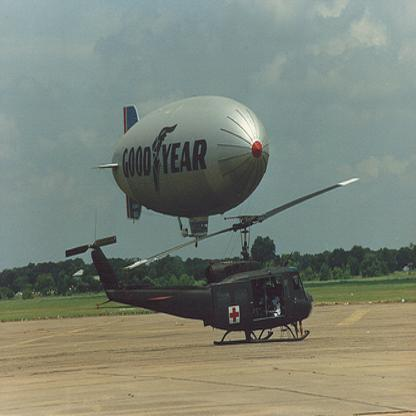Airship: (94, 96, 277, 245)
